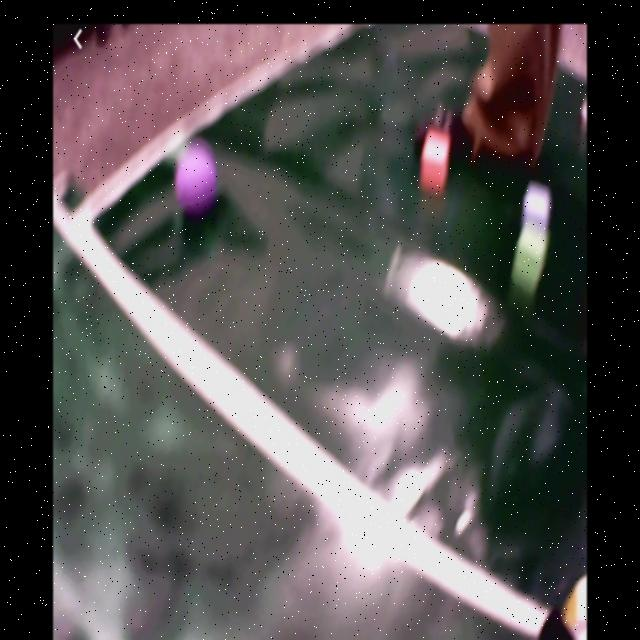ball: (176, 146, 218, 210)
